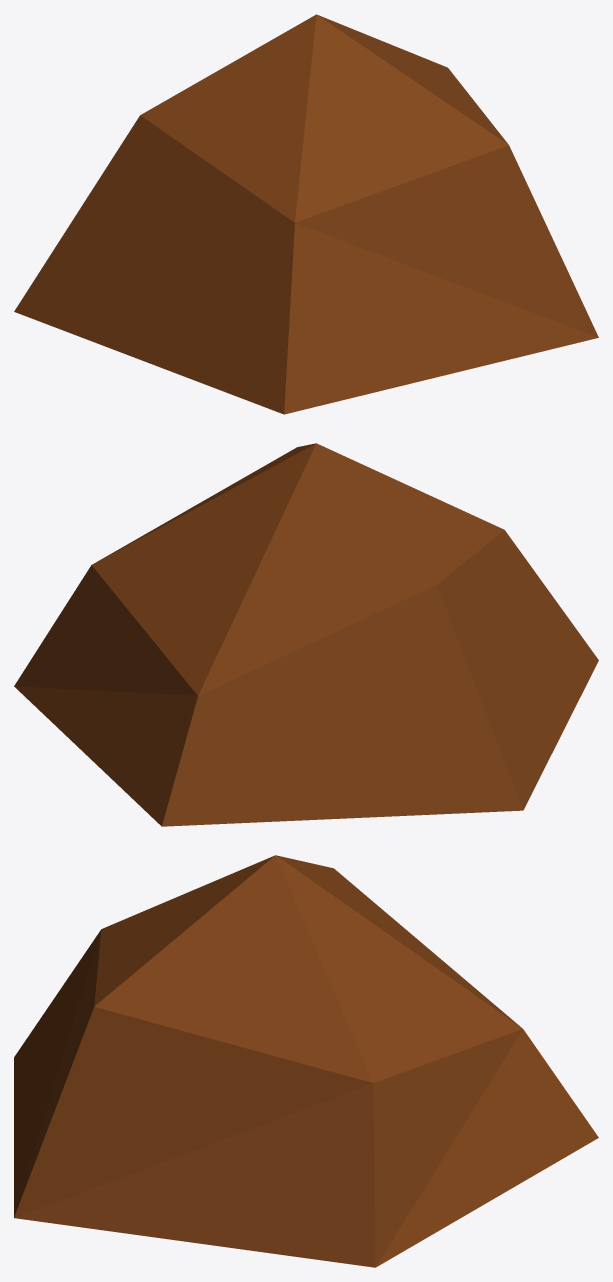
The model's file is MoleMound.fbx.
The picture shows the model from 3 angles, top to bottom: view 1: azimuth 30°, elevation 25°; view 2: azimuth 150°, elevation 25°; view 3: azimuth 270°, elevation 25°; orthographic projection. The views are drawn at different scales.
Parts seen in each view (by area): view 1: MoleMound; view 2: MoleMound; view 3: MoleMound.
Boxes of the visible parts, x1,y1,x2,y2 form: MoleMound: (14,14,598,414); MoleMound: (14,443,598,826); MoleMound: (14,855,598,1267).
Size of the model in its own units: 57.15 by 28.97 by 54.35.
